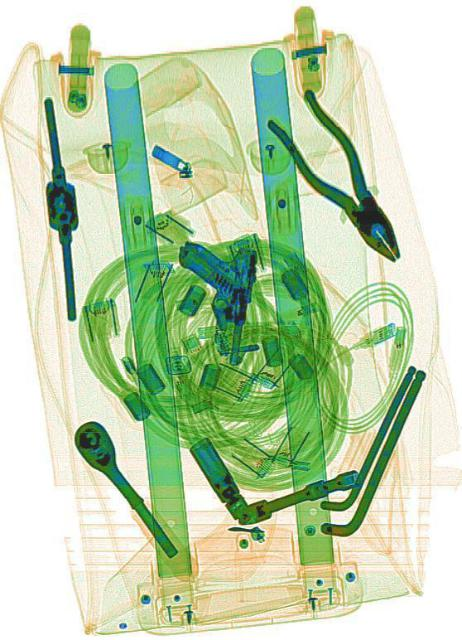Gun: (163, 230, 257, 366)
Pliers: (262, 76, 417, 284)
